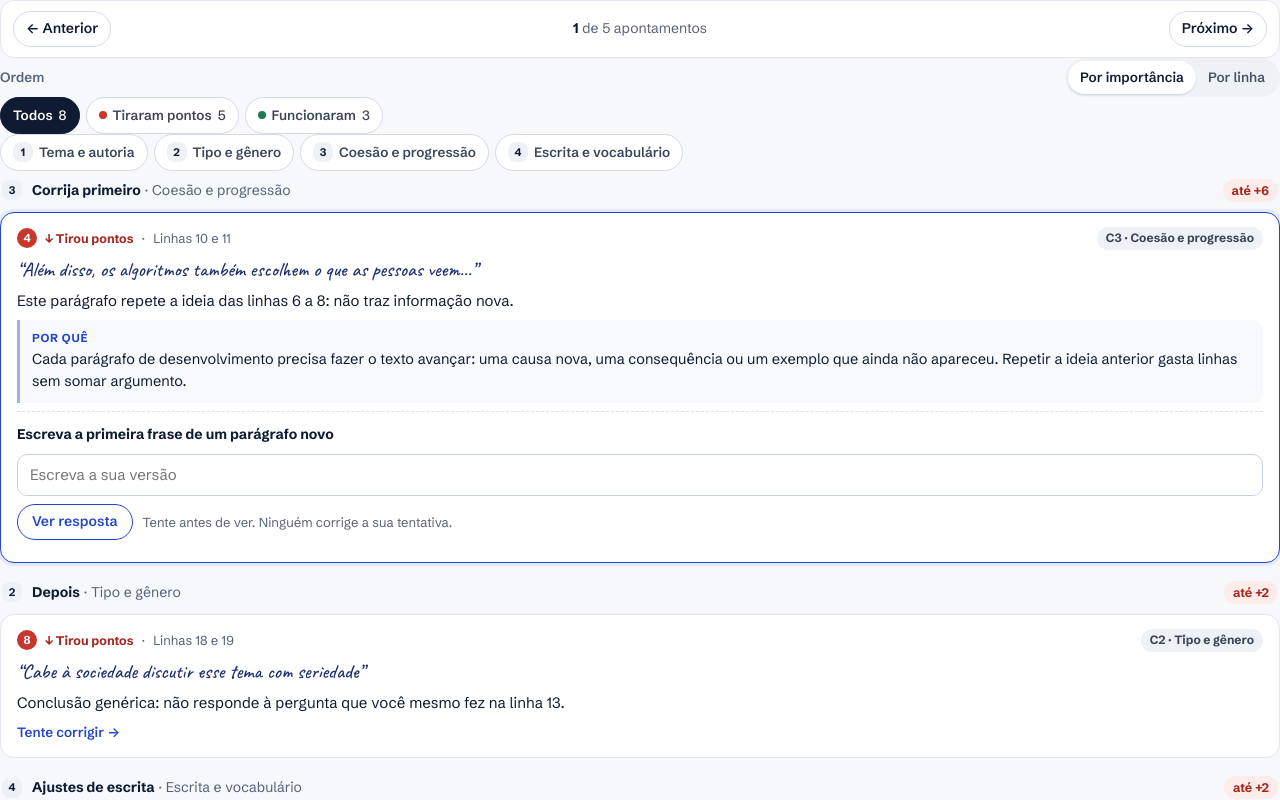
Test: AnnotationPanel › por linha, sem cabeçalhos nem recolhidos
Step 1. Click the button "Por linha" → point(1236, 77), box [1196, 61, 1277, 94]
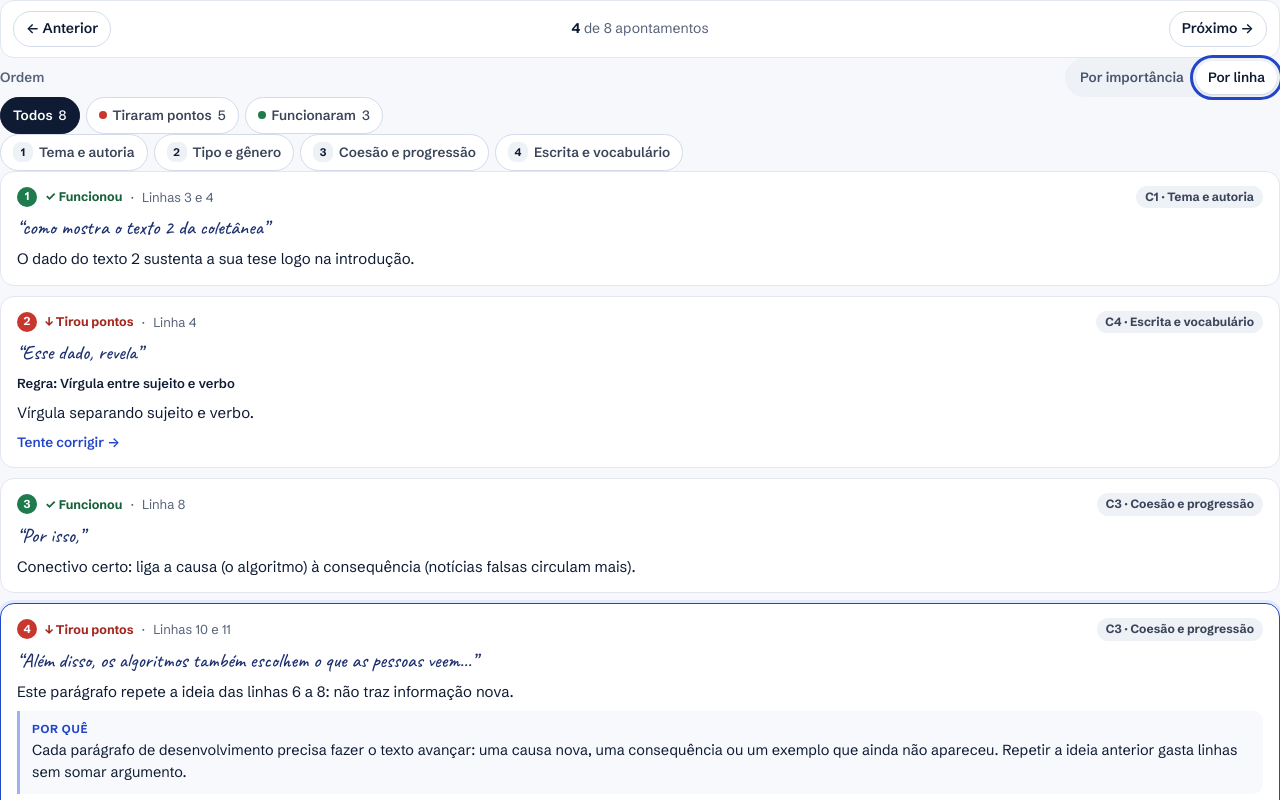
Now the text "Corrija primeiro" is gone
Now the text "de 8 apontamentos" is shown, box [584, 19, 709, 37]
